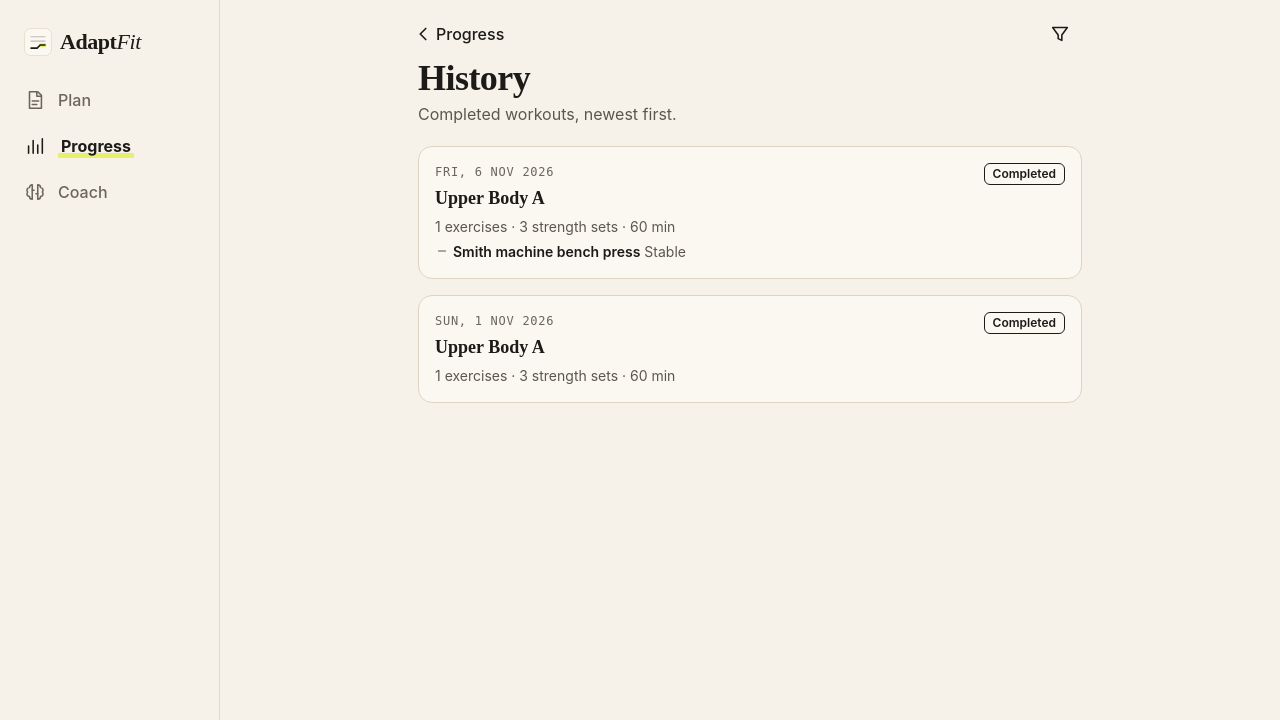
Test case: Integration (V0.2 flows in the V0.4 UI) › T42 editing History recalculates statistics
Click the button that starts with "Fri, 6 Nov 2026": (495, 172) [419, 147, 1081, 278]
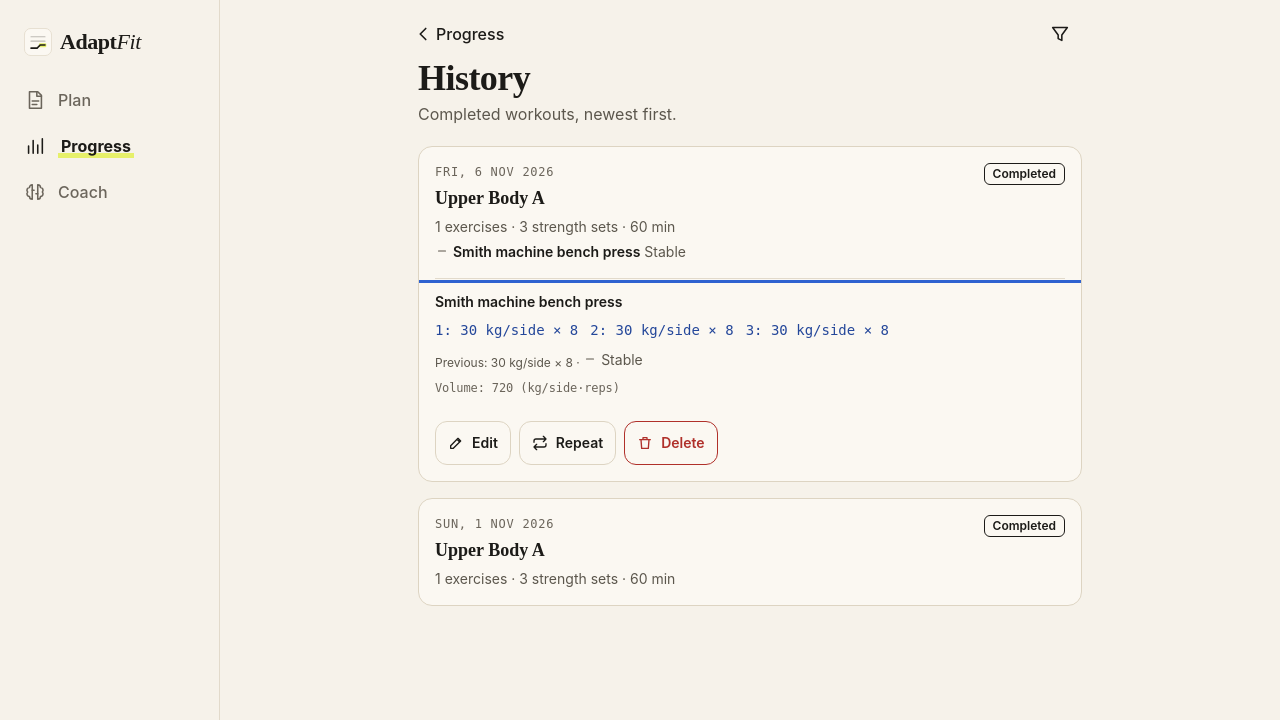
Click the button "Edit": (473, 443) [435, 421, 511, 465]
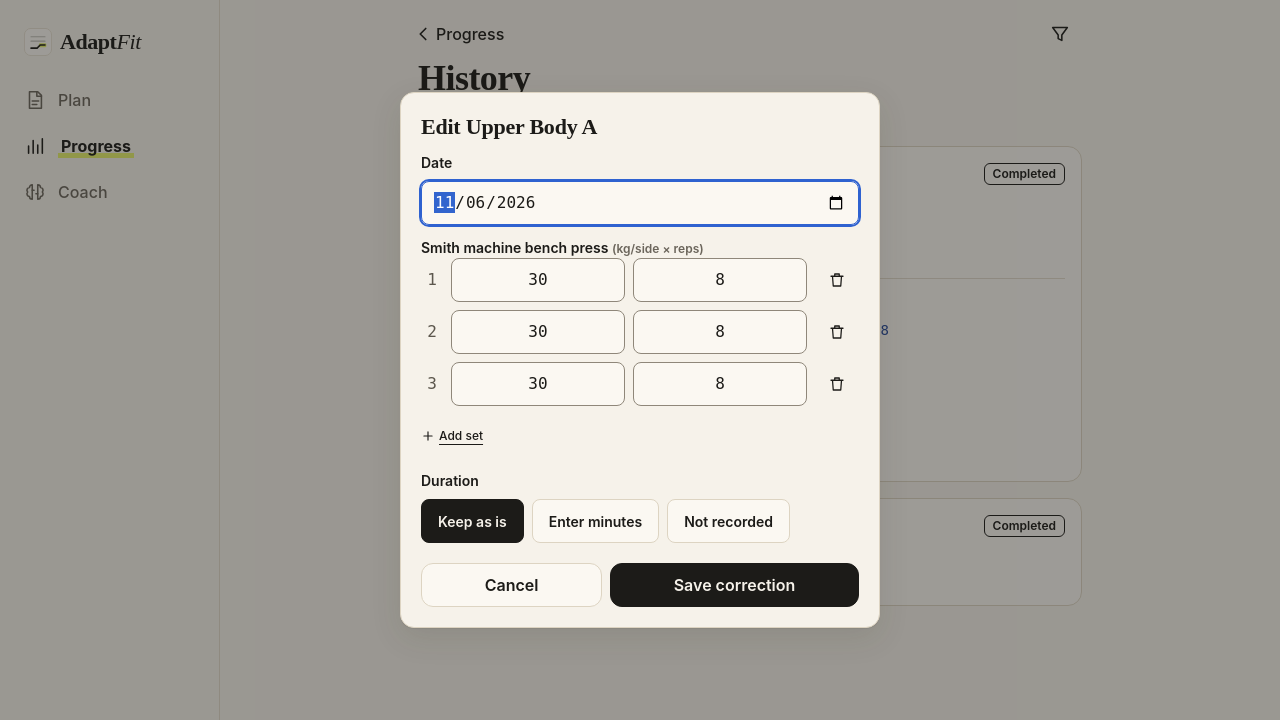
Replace the text in the field named "set 1 reps" with "10": (720, 280) [633, 258, 807, 302]
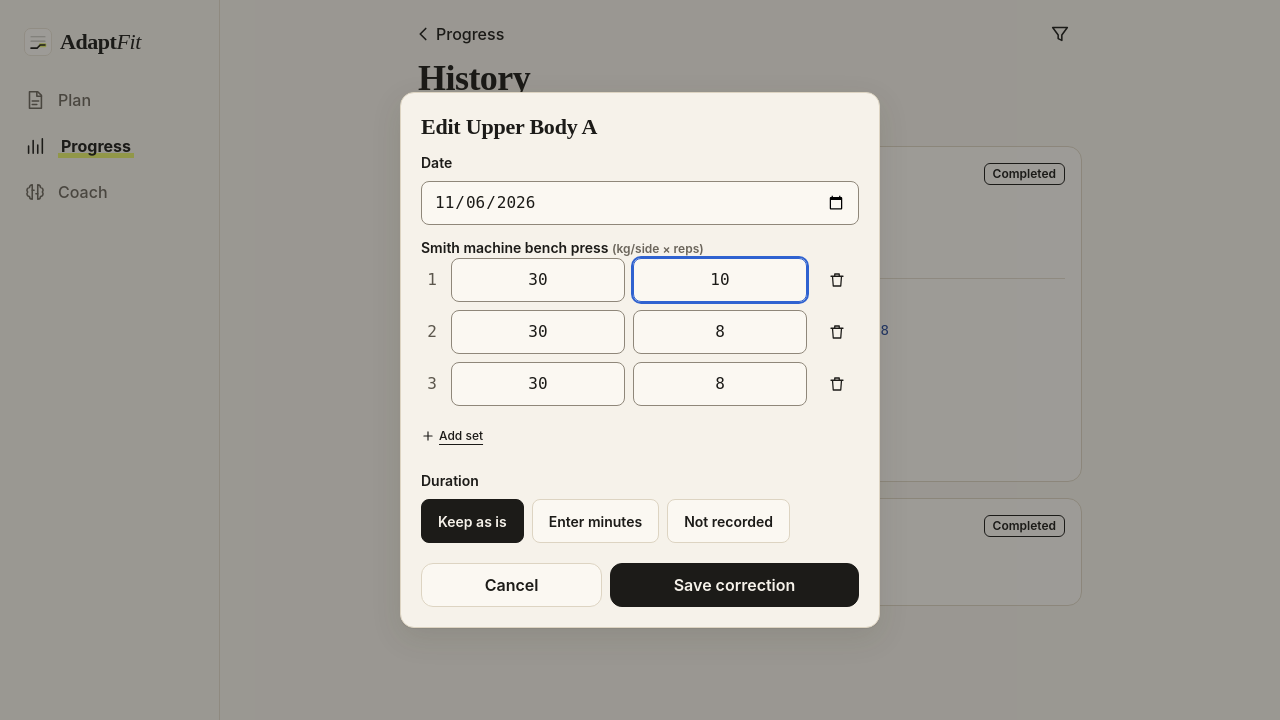
Click the button "Save correction": (734, 585) [610, 563, 859, 607]
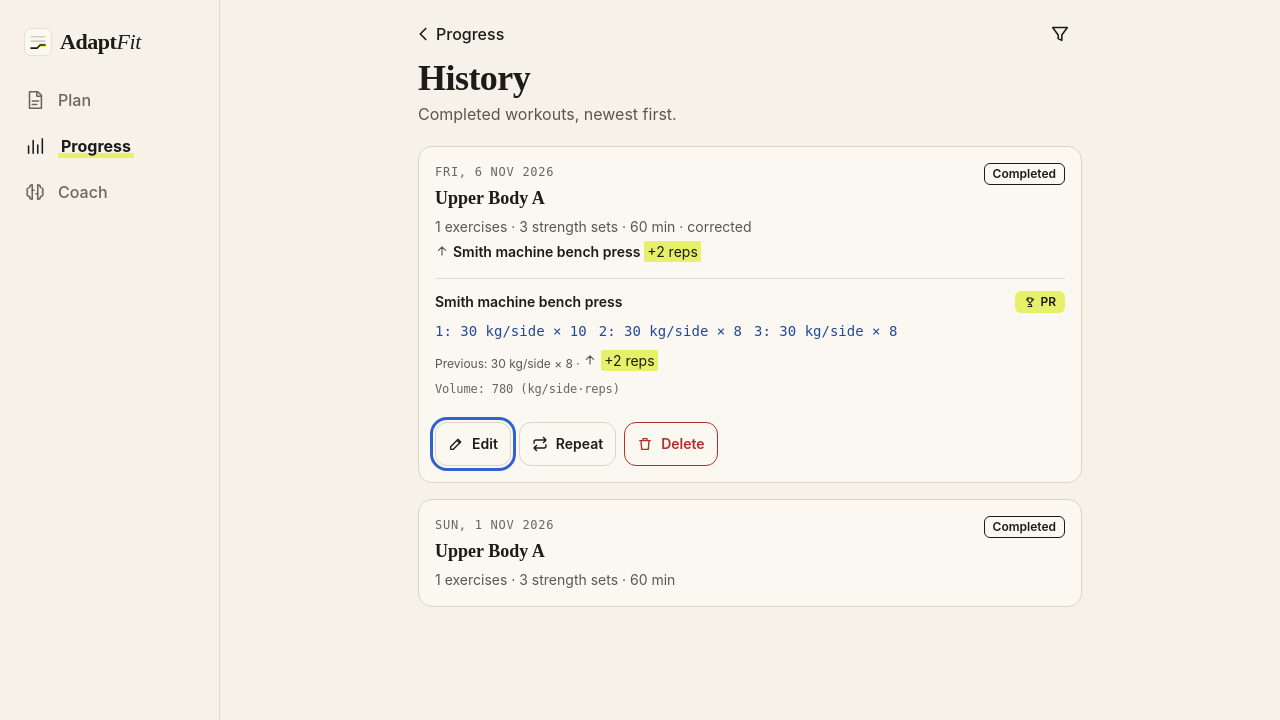
Expected: the dialog is gone
Expected: the list item with test id "history-item" shows "+2 reps", [419, 147, 1081, 278]
